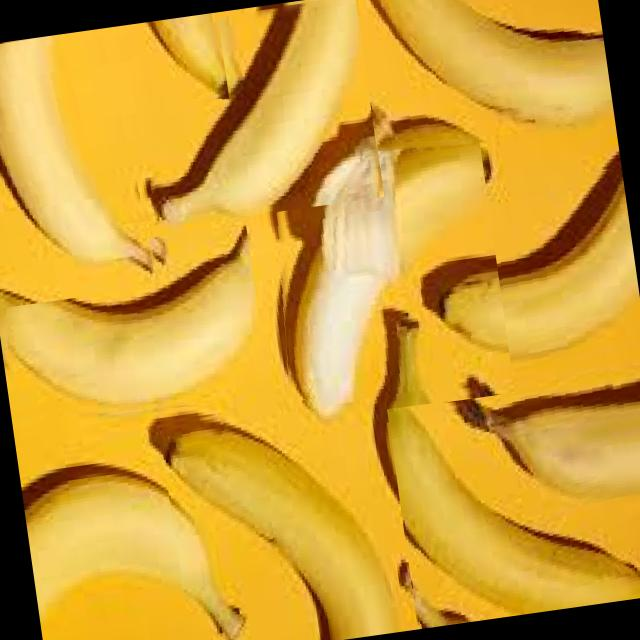Organic: (250, 109, 514, 424), (377, 313, 640, 629), (156, 387, 404, 640), (123, 0, 383, 229), (0, 223, 269, 435), (0, 24, 159, 308), (424, 166, 638, 372), (353, 0, 609, 164), (467, 352, 640, 518), (127, 11, 228, 110)
